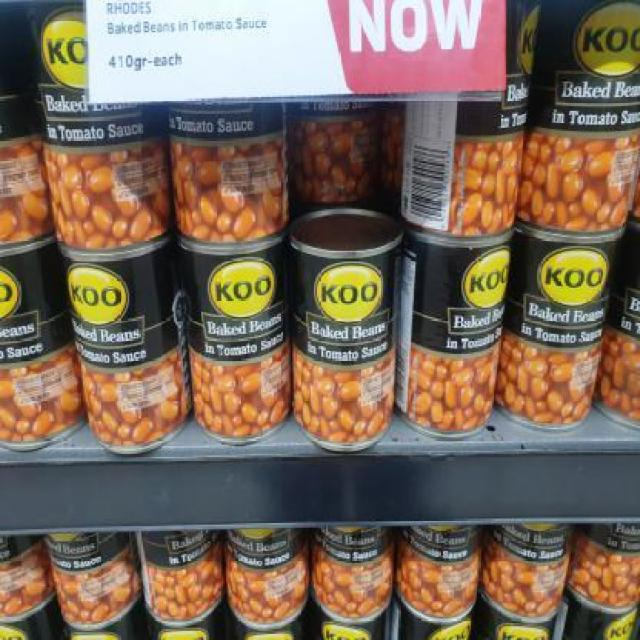Beans: (537, 6, 638, 139), (296, 235, 396, 368), (400, 238, 502, 358), (508, 233, 606, 341), (72, 261, 170, 367), (188, 260, 292, 355)
